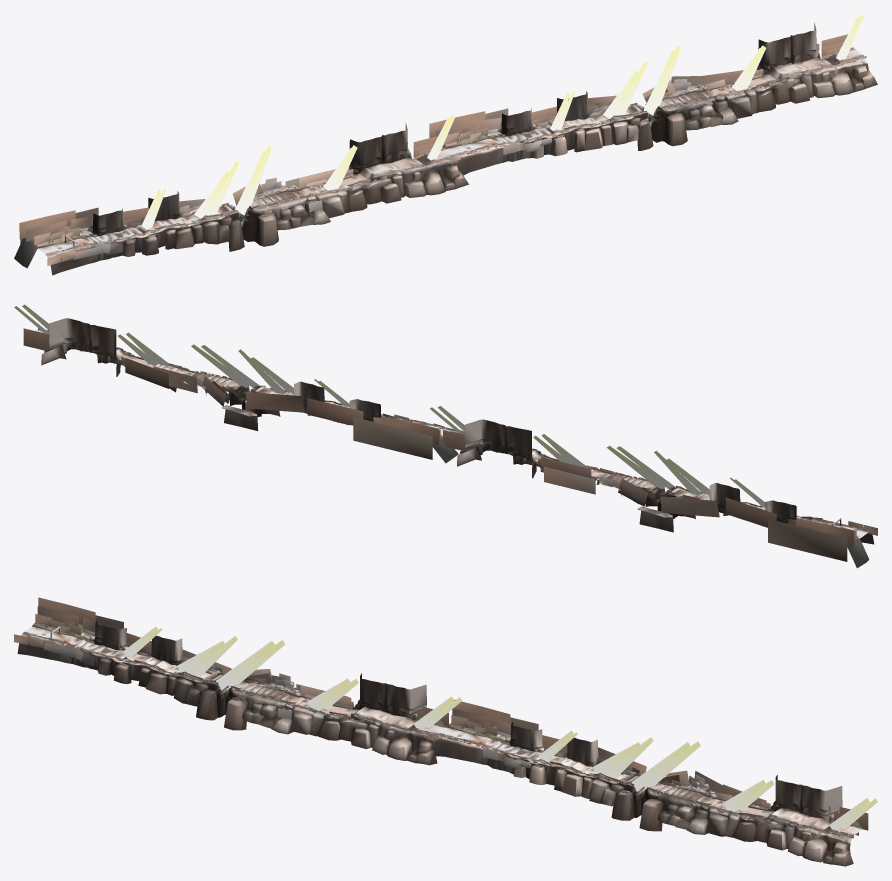
File: Forest_05.fbx
The picture shows the model from 3 angles, top to bottom: view 1: azimuth 30°, elevation 25°; view 2: azimuth 150°, elevation 25°; view 3: azimuth 330°, elevation 25°; orthographic projection.
Parts seen in each view (by area): view 1: Mountain_01, Tree_01, Ground_01, Light_01, Leak_A; view 2: Tree_01, Mountain_01, Light_01, Ground_01; view 3: Mountain_01, Tree_01, Light_01, Ground_01, Leak_A.
Part boxes in pixels (left/top/right/bottom): Mountain_01: left=14, top=22, right=877, bottom=275; Tree_01: left=19, top=34, right=866, bottom=265; Ground_01: left=38, top=49, right=863, bottom=254; Light_01: left=141, top=14, right=863, bottom=229; Leak_A: left=155, top=74, right=774, bottom=229; Tree_01: left=23, top=328, right=877, bottom=561; Mountain_01: left=39, top=318, right=874, bottom=568; Light_01: left=14, top=304, right=765, bottom=507; Ground_01: left=36, top=329, right=868, bottom=538; Mountain_01: left=17, top=621, right=853, bottom=866; Tree_01: left=14, top=597, right=868, bottom=838; Light_01: left=123, top=626, right=877, bottom=830; Ground_01: left=23, top=626, right=862, bottom=835; Leak_A: left=134, top=653, right=772, bottom=816.
Bounding box in the file's own units: 72159 × 6337 × 5482.
